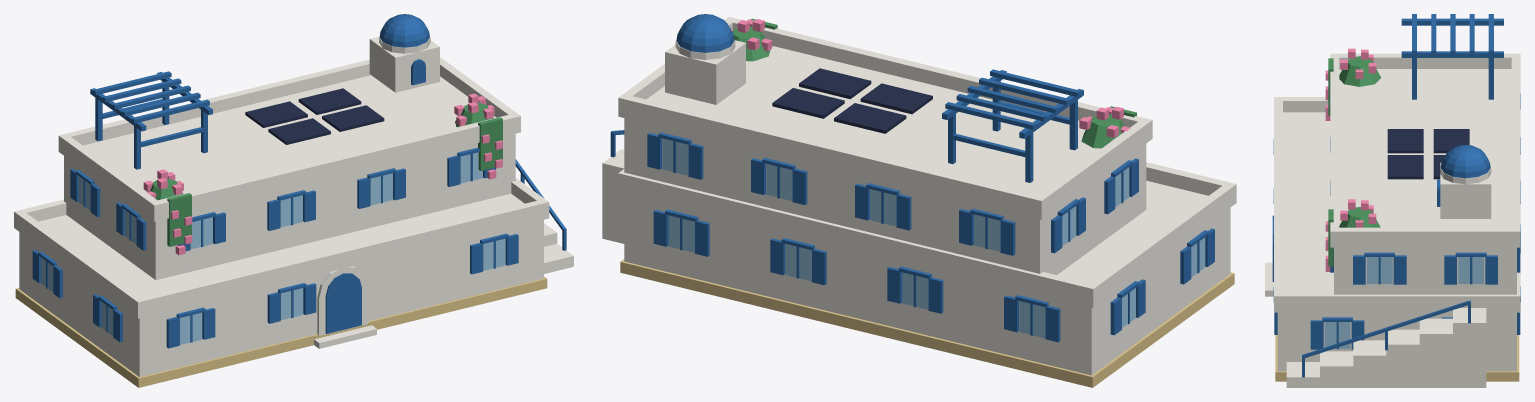
File: house-2x1-2f-third-aegean-a-solar.glb
3 views of the same model, side by side, from view 1: azimuth 30°, elevation 25°; view 2: azimuth 150°, elevation 25°; view 3: azimuth 270°, elevation 25° (orthographic). The views are drawn at different scales.
Visible parts, largest first — view 1: house-2x1-2f-third-aegean-a-solar; view 2: house-2x1-2f-third-aegean-a-solar; view 3: house-2x1-2f-third-aegean-a-solar.
Boxes of the visible parts, x1,y1,x2,y2 form: house-2x1-2f-third-aegean-a-solar: (14,14,573,387); house-2x1-2f-third-aegean-a-solar: (602,14,1236,387); house-2x1-2f-third-aegean-a-solar: (1265,14,1520,387).
Bounding box in the file's own units: 1.99 × 0.9132 × 1.
Materials: 1 (1 with a texture image).
